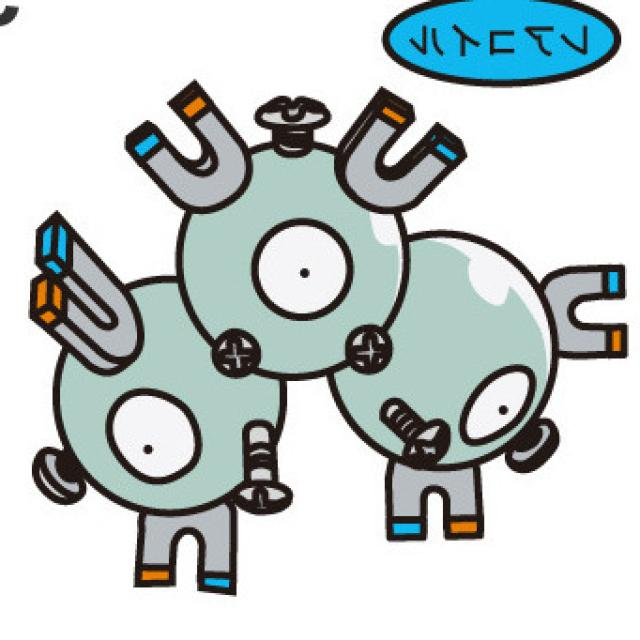Magneton: (22, 66, 564, 540)
